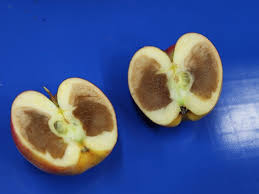damaged_apple: (12, 80, 118, 178), (130, 34, 225, 130)
